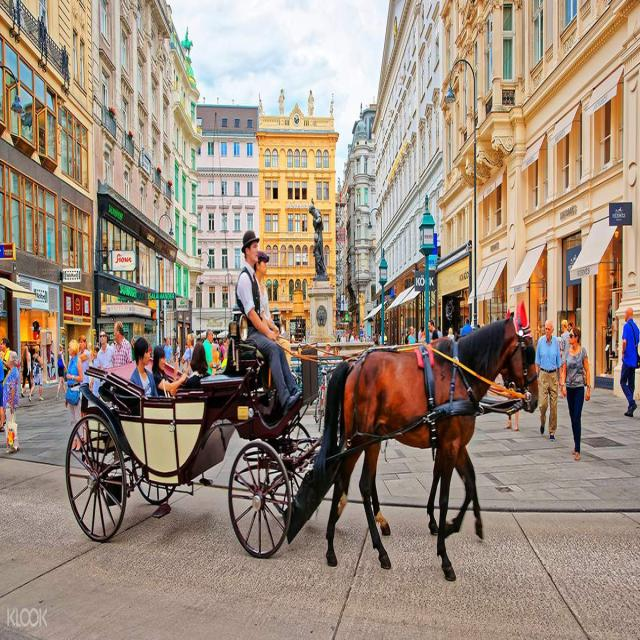body: (236, 229, 303, 419), (253, 250, 298, 386), (562, 326, 590, 462), (534, 318, 562, 442), (619, 306, 640, 418), (64, 338, 84, 452), (151, 344, 189, 399), (306, 198, 330, 284), (2, 350, 21, 454), (130, 336, 159, 397), (77, 334, 91, 446), (184, 342, 211, 388), (110, 319, 133, 369), (602, 297, 615, 379), (335, 327, 389, 346), (27, 348, 45, 403), (20, 345, 34, 398), (97, 328, 115, 368), (56, 343, 68, 402), (202, 327, 215, 377), (558, 318, 570, 371), (91, 346, 102, 400), (212, 331, 230, 364), (180, 26, 194, 63), (181, 333, 195, 369), (0, 336, 11, 379), (0, 353, 5, 432), (277, 85, 287, 121), (503, 411, 519, 432), (129, 336, 136, 379), (182, 335, 192, 365), (460, 317, 474, 337), (322, 343, 338, 358), (256, 91, 264, 121), (428, 318, 439, 339), (163, 338, 172, 363), (26, 343, 33, 375), (407, 324, 417, 345), (307, 89, 314, 119), (174, 340, 181, 368), (417, 325, 426, 343), (329, 92, 334, 119), (446, 326, 454, 342), (404, 329, 410, 344), (437, 325, 443, 339), (302, 332, 308, 345), (568, 320, 574, 332)
